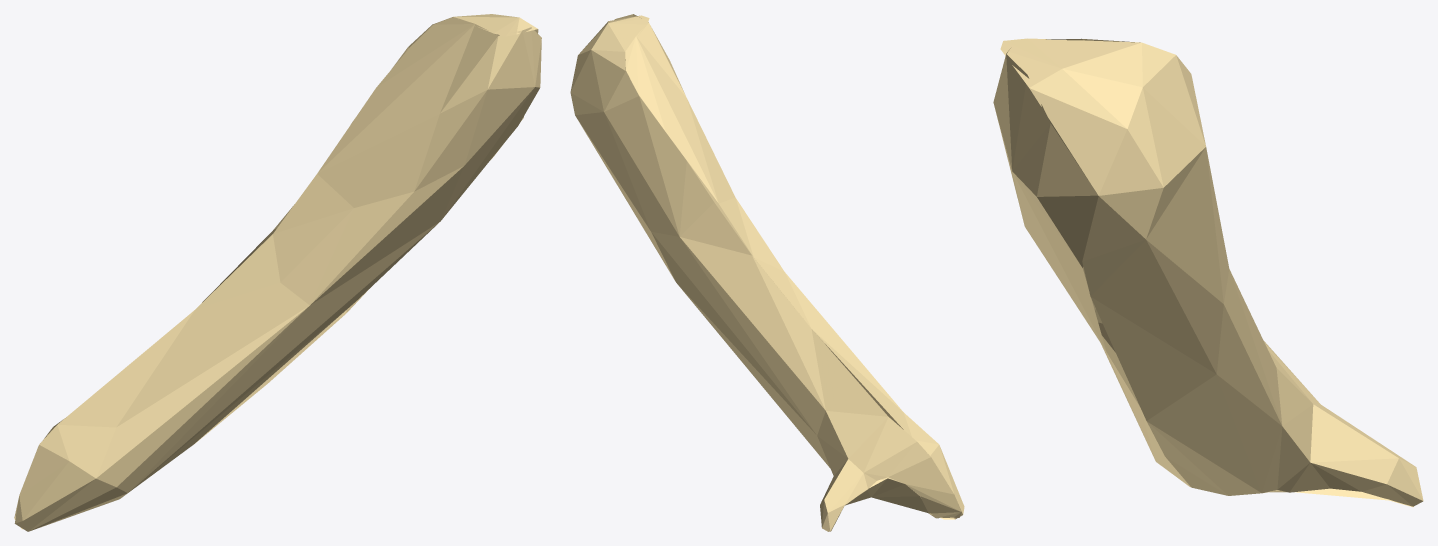
Rendered from leftArm.obj.
3 views of the same model, side by side, from view 1: azimuth 30°, elevation 25°; view 2: azimuth 150°, elevation 25°; view 3: azimuth 270°, elevation 25° (orthographic). The views are drawn at different scales.
Visible parts, largest first — view 1: 左腕; view 2: 左腕; view 3: 左腕.
Part boxes in pixels (x1=…): 左腕: x1=14, y1=14, x2=541, y2=531; 左腕: x1=570, y1=14, x2=964, y2=531; 左腕: x1=993, y1=38, x2=1423, y2=507.
Bounding box in the file's own units: 0.231 × 0.1989 × 0.1029.
1 material, 1 textured.
